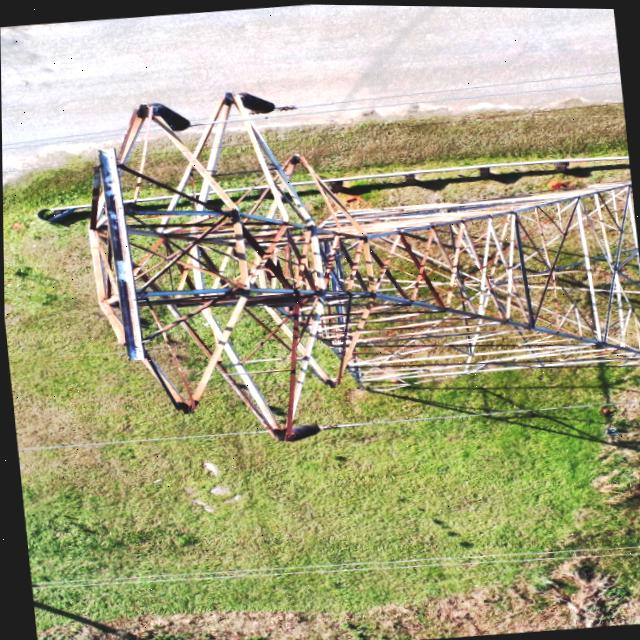poles: (5, 43, 640, 456)
wires: (27, 519, 640, 627)
